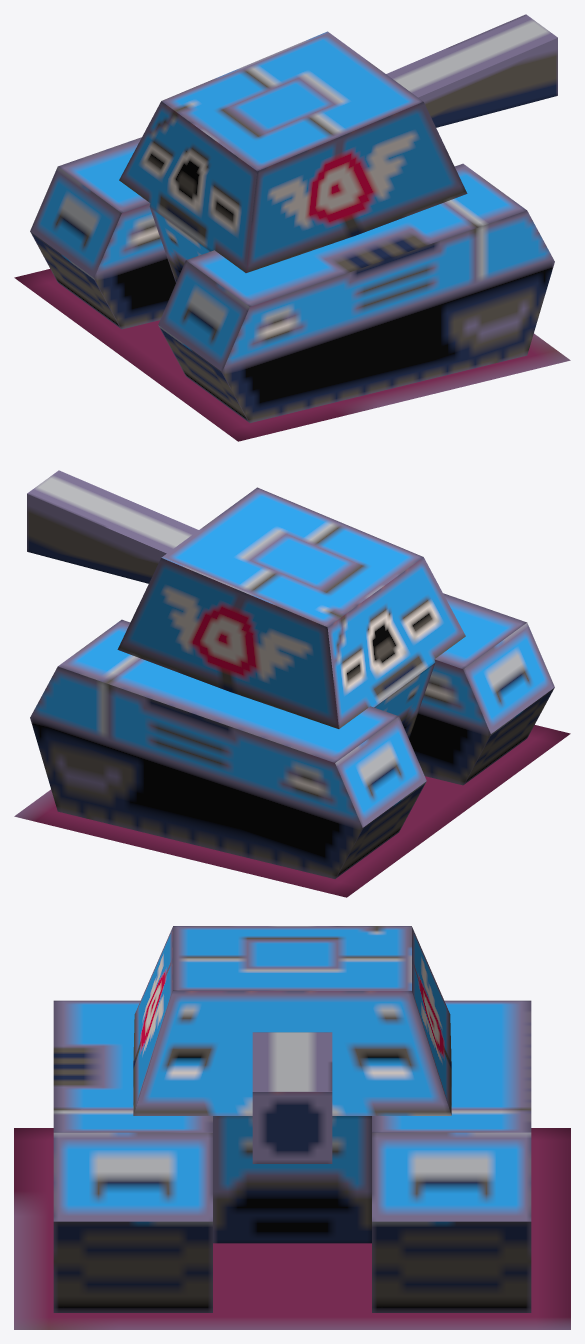
File: chunky_tank.obj
3 views of the same model, one above another, from view 1: azimuth 30°, elevation 25°; view 2: azimuth 150°, elevation 25°; view 3: azimuth 270°, elevation 25° (orthographic). The views are drawn at different scales.
Visible parts, largest first — view 1: chunky_tank; view 2: chunky_tank; view 3: chunky_tank.
Boxes of the visible parts, x1=… form: chunky_tank: x1=14, y1=14, x2=570, y2=441; chunky_tank: x1=14, y1=470, x2=570, y2=897; chunky_tank: x1=14, y1=926, x2=570, y2=1329.
Bounding box in the file's own units: 3.75 × 2 × 3.5.
Materials: 1 (1 with a texture image).
